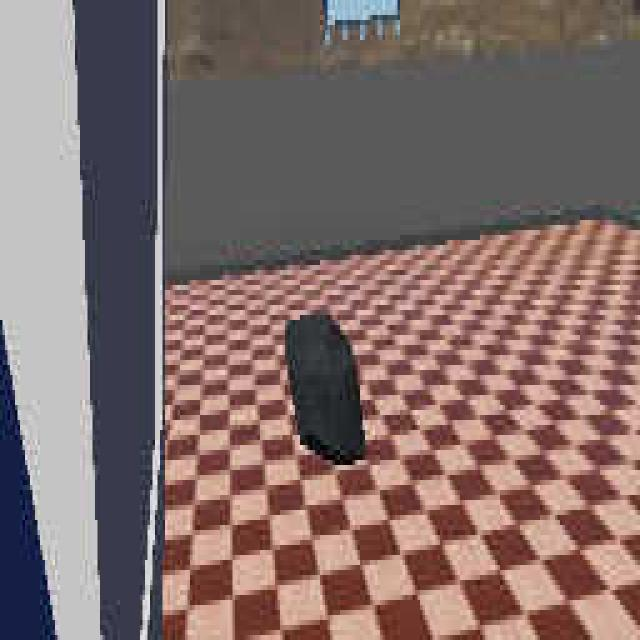rock: (285, 312, 364, 468)
